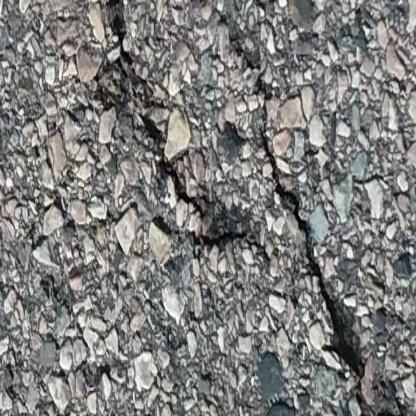Cracks: (227, 0, 416, 416), (72, 0, 252, 269)
